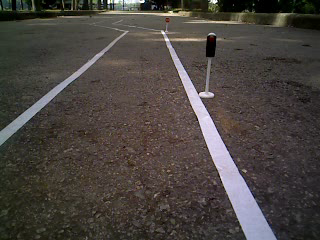Red: (203, 32, 220, 60)
